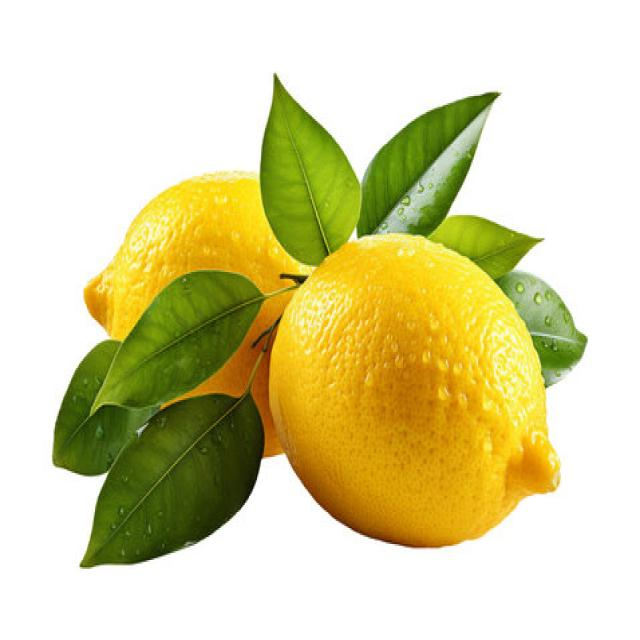Lemon: (266, 231, 561, 548), (86, 119, 317, 409)
